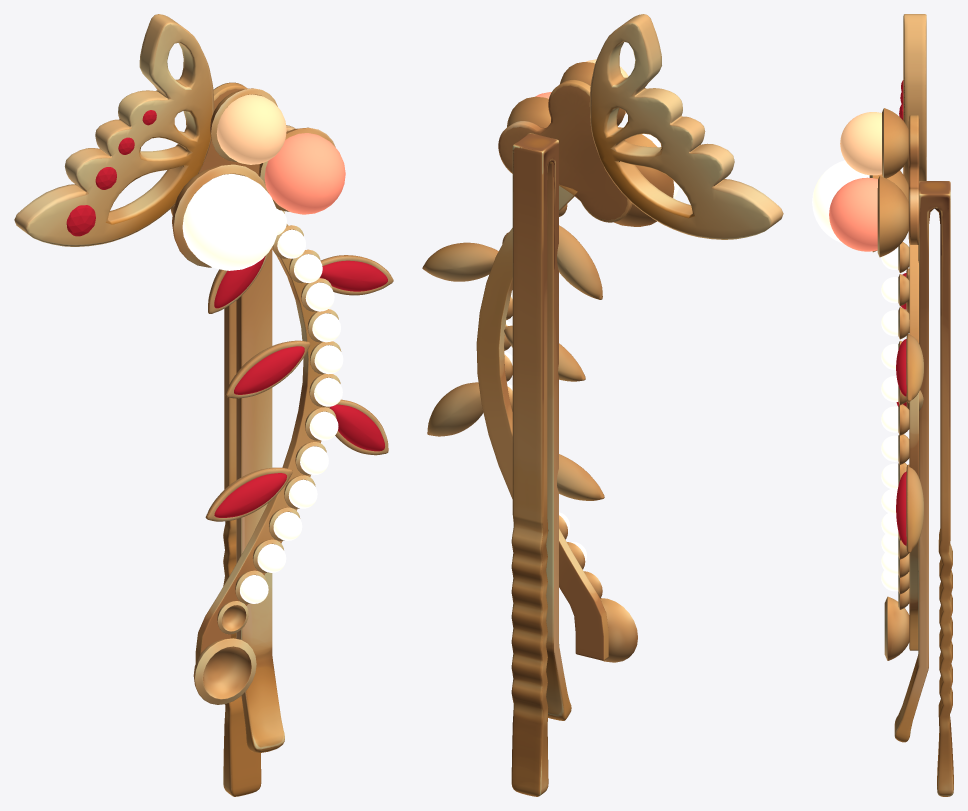
3 views of the same model, side by side, from view 1: azimuth 30°, elevation 25°; view 2: azimuth 150°, elevation 25°; view 3: azimuth 270°, elevation 25° (orthographic). The views are drawn at different scales.
Visible parts, largest first — view 1: hairakuse; view 2: hairakuse; view 3: hairakuse.
Part boxes in pixels (x1,y1,x2,y2): hairakuse: (14,14,393,796); hairakuse: (422,14,783,796); hairakuse: (812,14,953,796).
Bounding box in the file's own units: 72.64 × 152 × 26.6.
